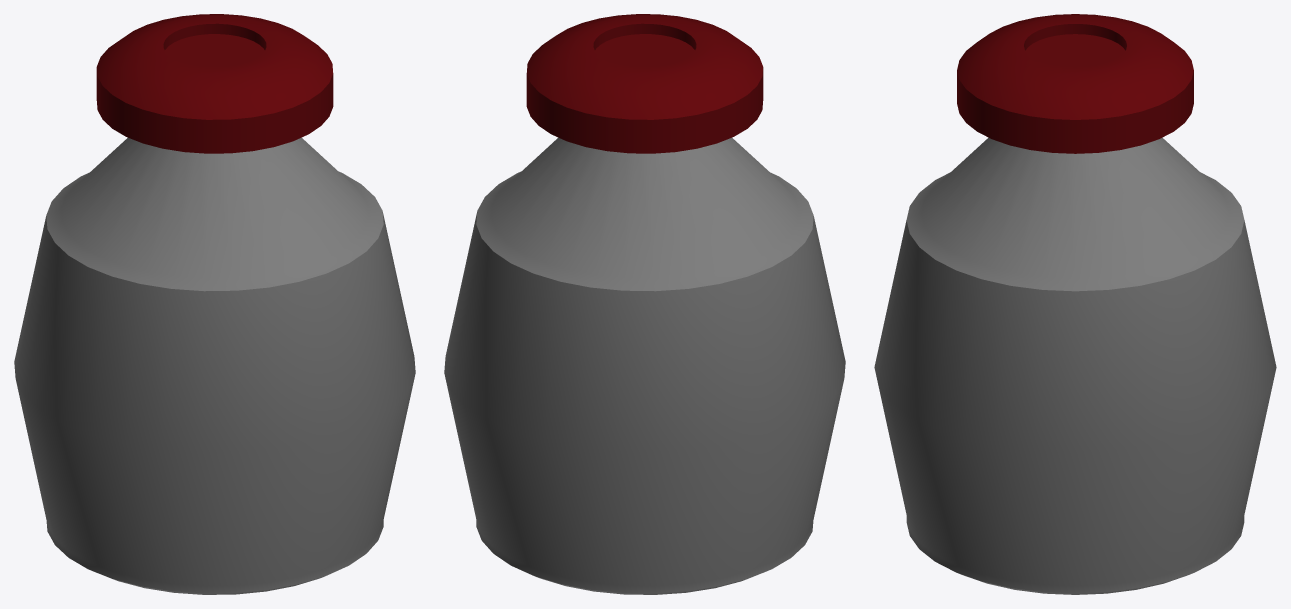
Rendered from bottle21.glb.
3 renders of one model, left to right at view 1: azimuth 30°, elevation 25°; view 2: azimuth 150°, elevation 25°; view 3: azimuth 270°, elevation 25°, orthographic.
Parts seen in each view (by area): view 1: Bottle21; view 2: Bottle21; view 3: Bottle21.
Part boxes in pixels (bbox=[...]): Bottle21: bbox=[14, 14, 415, 594]; Bottle21: bbox=[444, 14, 845, 594]; Bottle21: bbox=[874, 14, 1276, 594].
Bounding box in the file's own units: 6.16 × 8.15 × 6.16.
